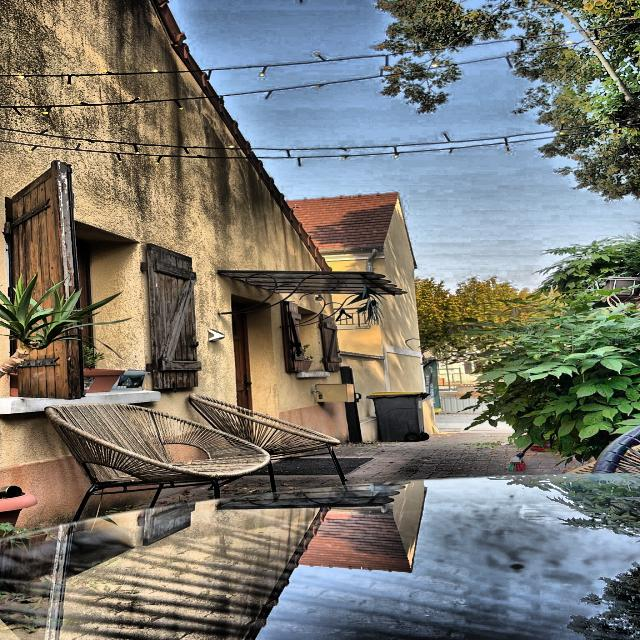cadeira: (182, 392, 371, 494)
